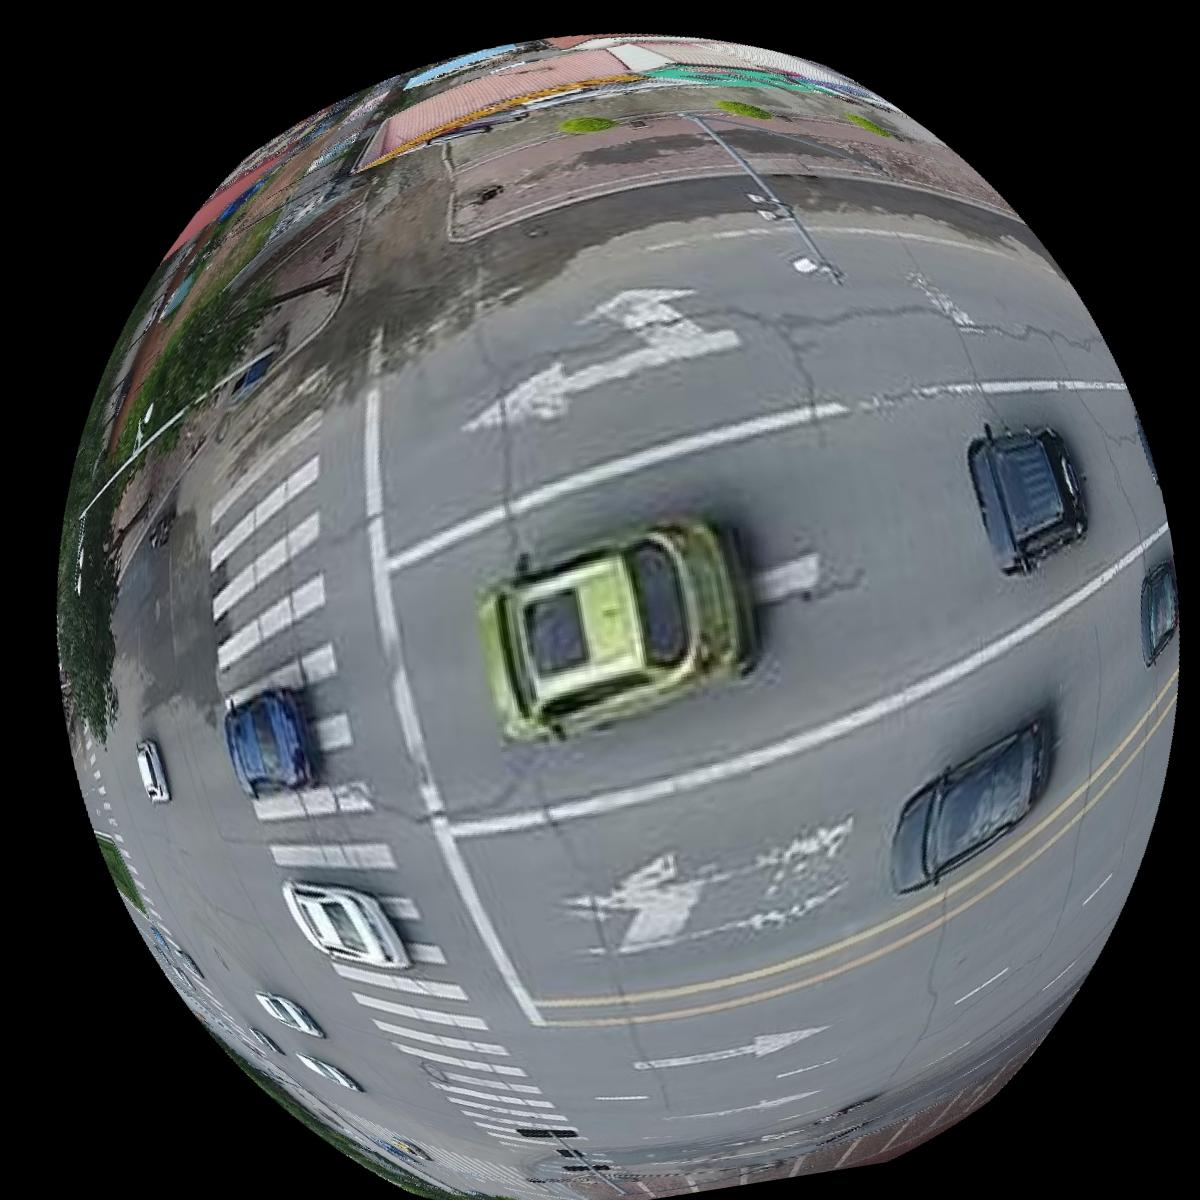cars: (476, 516, 757, 743), (892, 718, 1052, 891), (969, 424, 1087, 574), (282, 880, 409, 968), (223, 688, 314, 796), (1143, 559, 1180, 667), (254, 992, 324, 1038), (296, 1053, 360, 1092), (135, 738, 169, 802)
